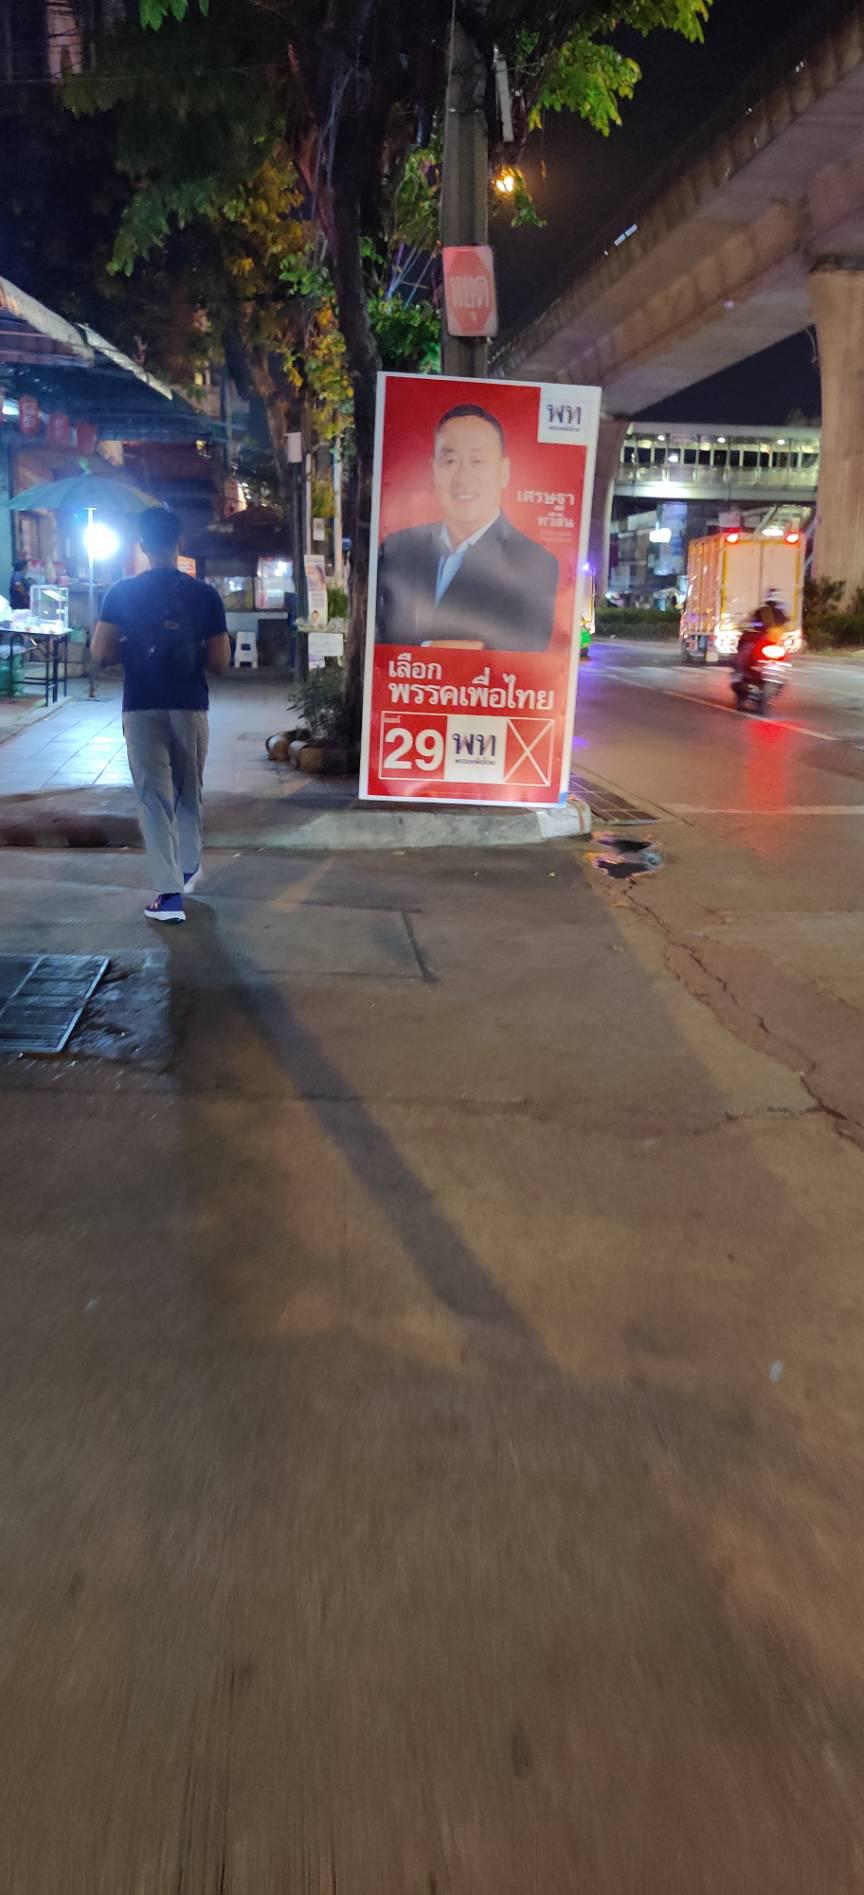Banner: (369, 340, 591, 823)
